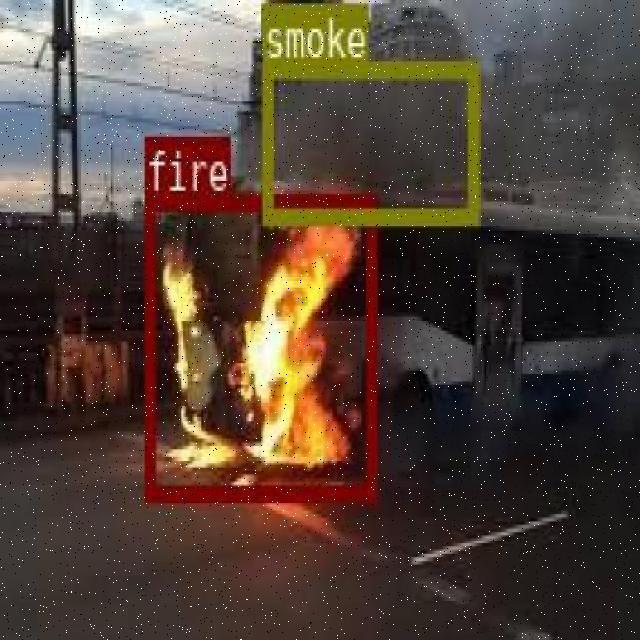Smoke: (261, 26, 475, 126)
